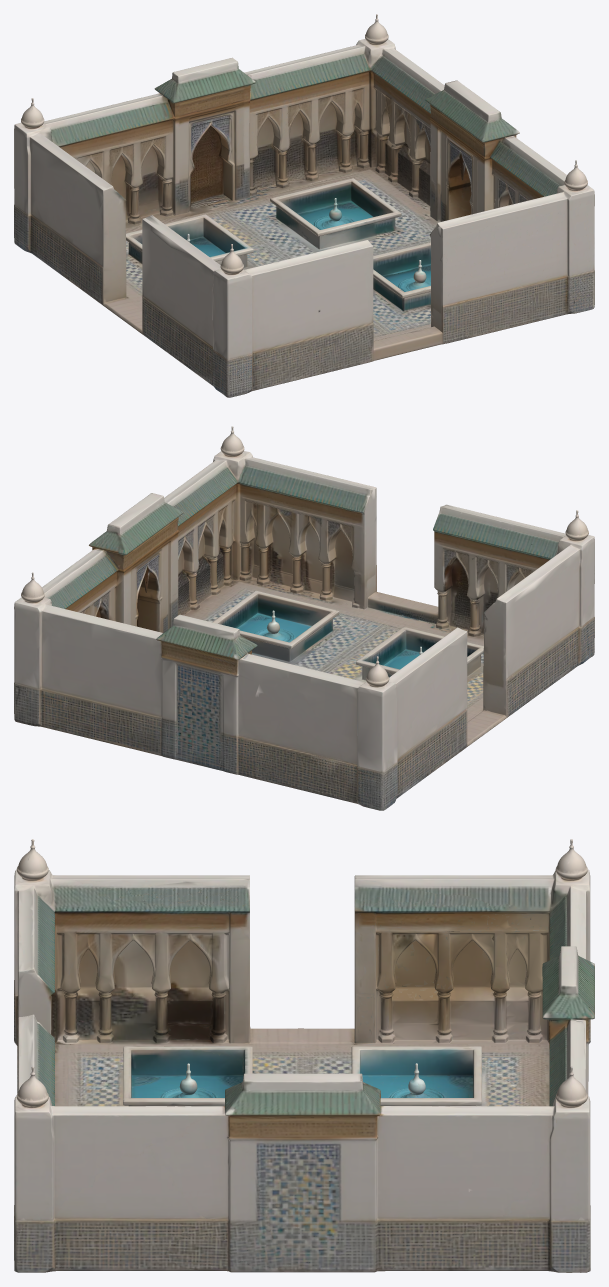
The model's file is 伊斯兰庭院3D图.glb.
The picture shows the model from 3 angles, top to bottom: view 1: azimuth 30°, elevation 25°; view 2: azimuth 150°, elevation 25°; view 3: azimuth 270°, elevation 25°; orthographic projection. The views are drawn at different scales.
Visible parts, largest first — view 1: node_0; view 2: node_0; view 3: node_0.
Part boxes in pixels (<box>): node_0: <box>14,14,594,397</box>; node_0: <box>14,426,594,810</box>; node_0: <box>14,839,594,1272</box>.
Size of the model in its own units: 0.8274 by 0.3123 by 0.8279.
Materials: 1 (1 with a texture image).
